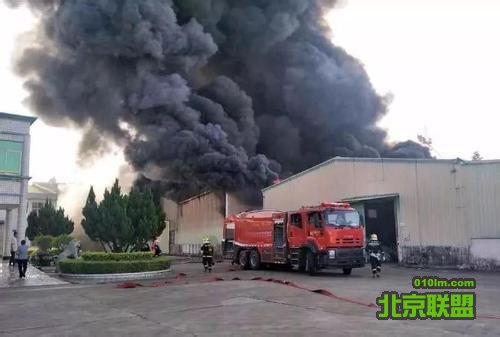smoke: (20, 1, 391, 181)
